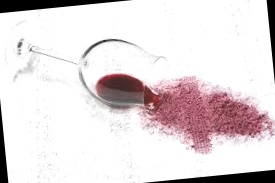wine: (139, 69, 267, 160)
